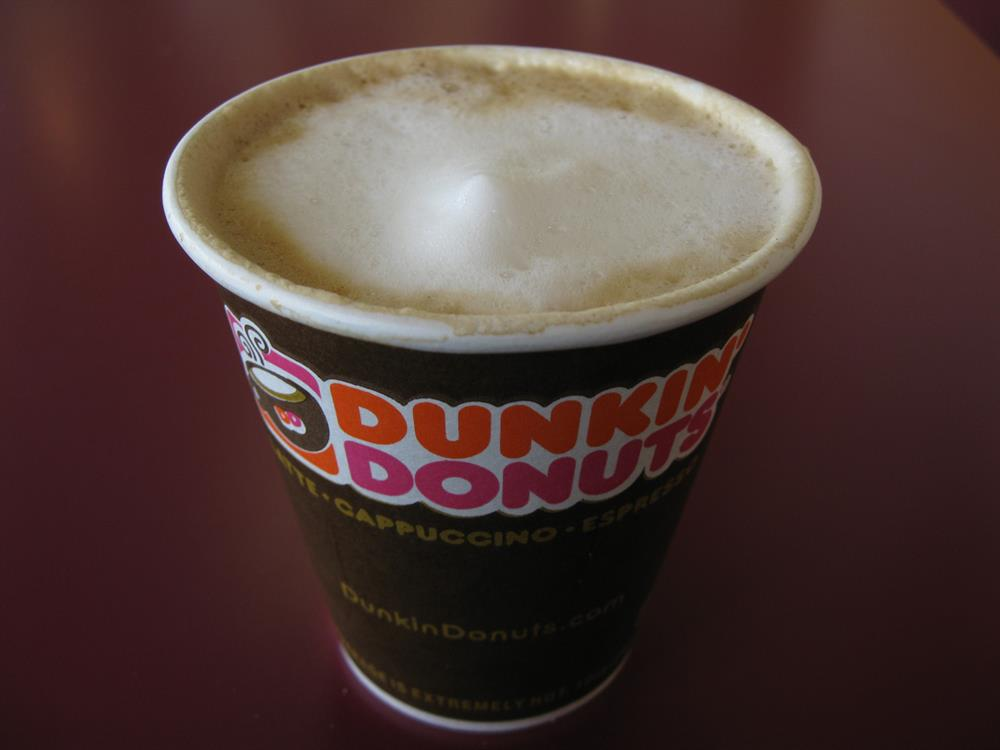Dunkin_Donuts: (222, 307, 774, 521)
